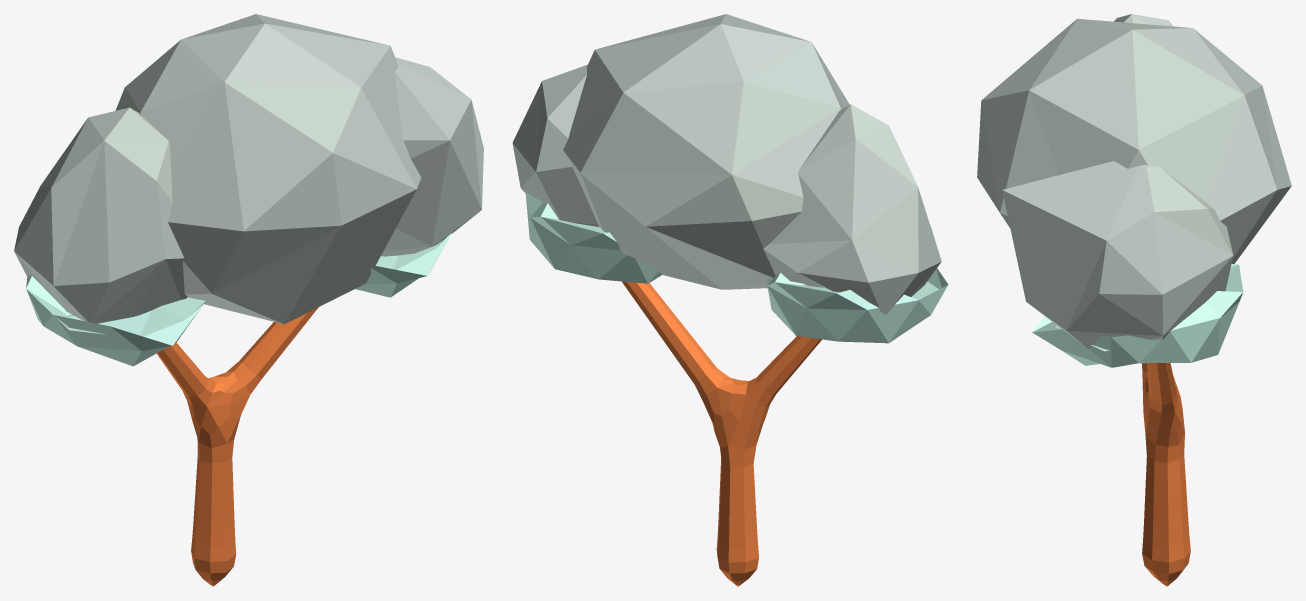
Rendered from tree8.gltf.
The picture shows the model from 3 angles, left to right: view 1: azimuth 30°, elevation 25°; view 2: azimuth 150°, elevation 25°; view 3: azimuth 270°, elevation 25°; orthographic projection. The views are drawn at different scales.
Visible parts, largest first — view 1: Icosphere.002, Icosphere.003, Icosphere.004, Cube, Icosphere.001, Icosphere; view 2: Icosphere.002, Icosphere.003, Cube, Icosphere.004, Icosphere.001, Icosphere; view 3: Icosphere.002, Icosphere.004, Cube, Icosphere, Icosphere.003.
Boxes of the visible parts, bbox=[...] form: Icosphere.002: bbox=[115, 14, 421, 324]; Icosphere.003: bbox=[14, 107, 187, 323]; Icosphere.004: bbox=[381, 57, 483, 256]; Cube: bbox=[156, 307, 318, 586]; Icosphere.001: bbox=[26, 275, 206, 366]; Icosphere: bbox=[355, 233, 451, 297]; Icosphere.002: bbox=[563, 14, 849, 289]; Icosphere.003: bbox=[763, 104, 941, 314]; Cube: bbox=[622, 281, 821, 586]; Icosphere.004: bbox=[512, 64, 598, 226]; Icosphere.001: bbox=[766, 268, 948, 343]; Icosphere: bbox=[525, 192, 661, 283]; Icosphere.002: bbox=[977, 18, 1291, 263]; Icosphere.004: bbox=[1002, 161, 1233, 349]; Cube: bbox=[1141, 363, 1190, 586]; Icosphere: bbox=[1032, 264, 1243, 367]; Icosphere.003: bbox=[1114, 14, 1172, 26].
Size of the model in its own units: 5.02 by 6.31 by 3.13.
